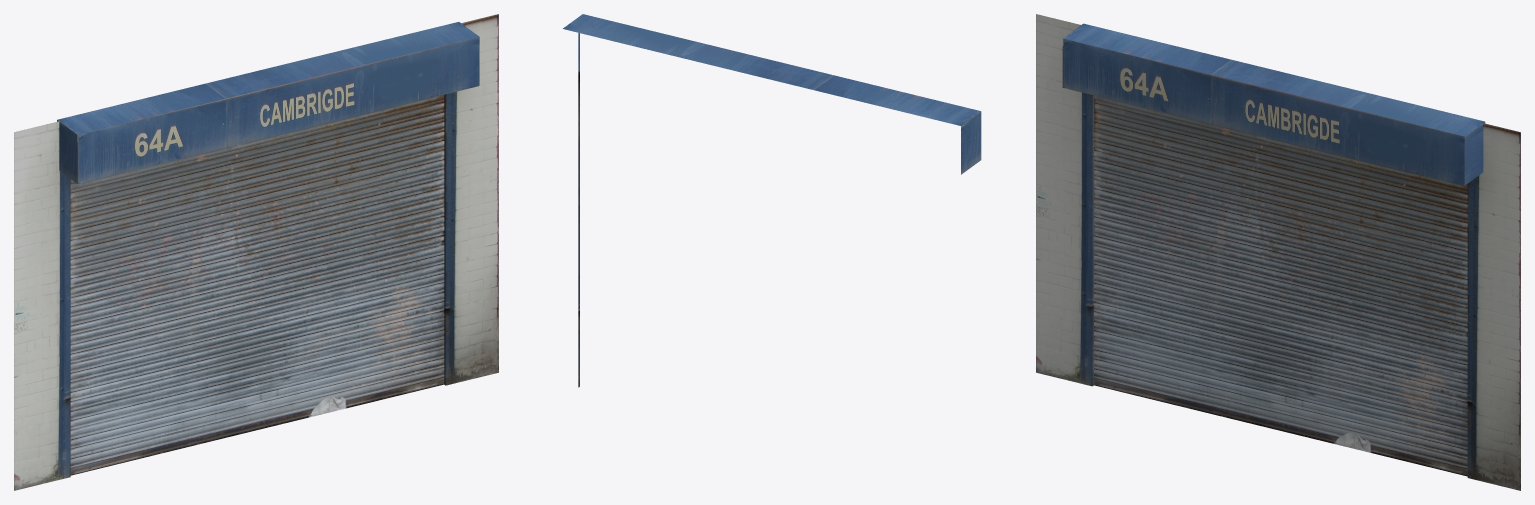
Rendered from 07_shutters_1.glb.
3 renders of one model, left to right at view 1: azimuth 30°, elevation 25°; view 2: azimuth 150°, elevation 25°; view 3: azimuth 330°, elevation 25°, orthographic.
Parts seen in each view (by area): view 1: shutters_1; view 2: shutters_1; view 3: shutters_1.
Boxes of the visible parts, <box> form: shutters_1: <box>14,14,498,490</box>; shutters_1: <box>563,14,981,387</box>; shutters_1: <box>1036,14,1520,490</box>.
Bounding box in the file's own units: 5 × 3.54 × 0.3667.
Materials: 1 (1 with a texture image).
